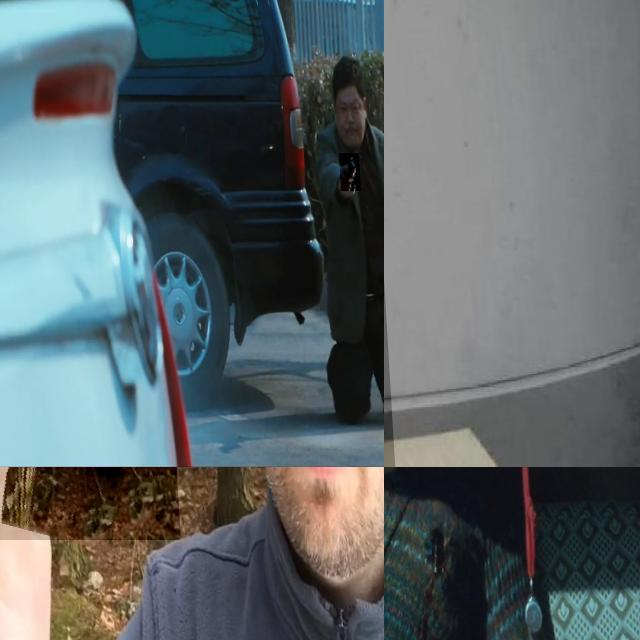-: (384, 0, 483, 467), (0, 467, 174, 640)
gun-knife-thesis - v11 Yolov5 augmented: (384, 472, 437, 594), (336, 153, 358, 191)
